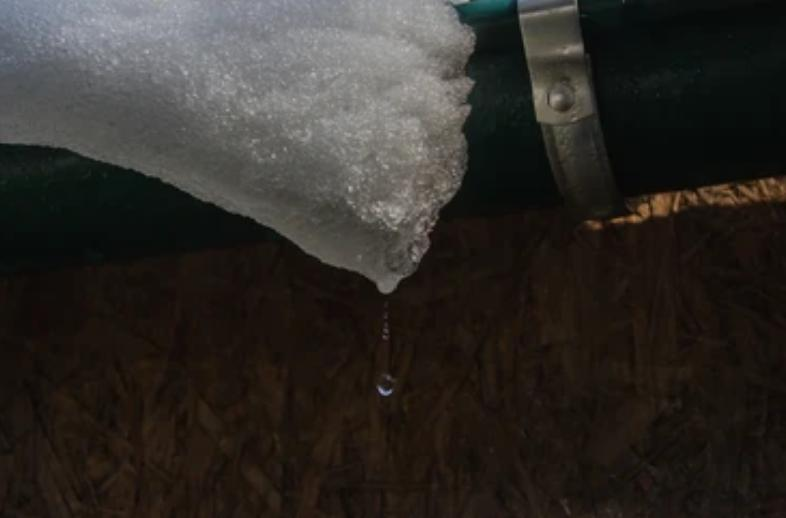water drop: (377, 290, 396, 395)
